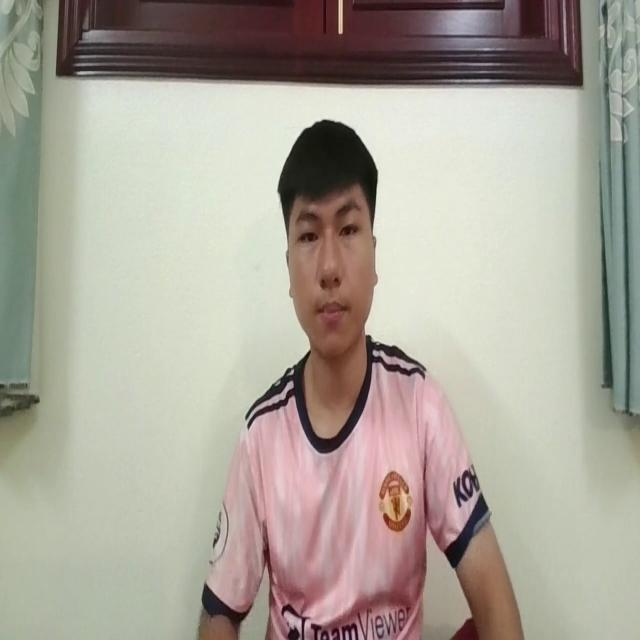student: (200, 115, 519, 640)
